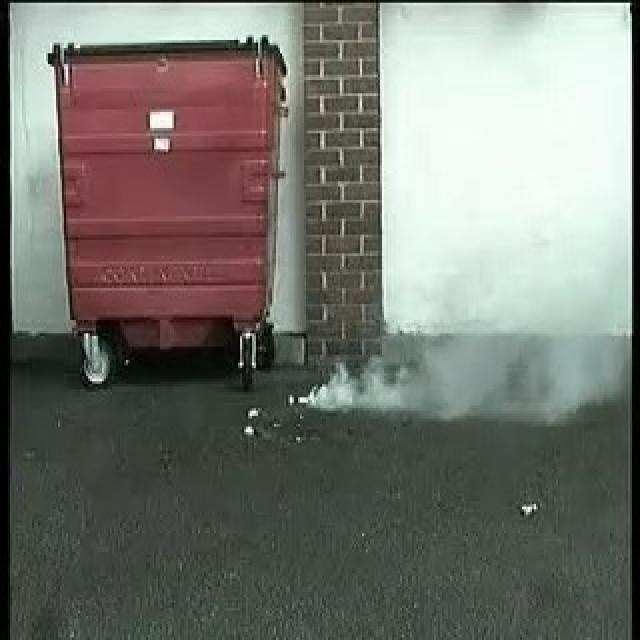Smoke: (306, 332, 484, 410)
